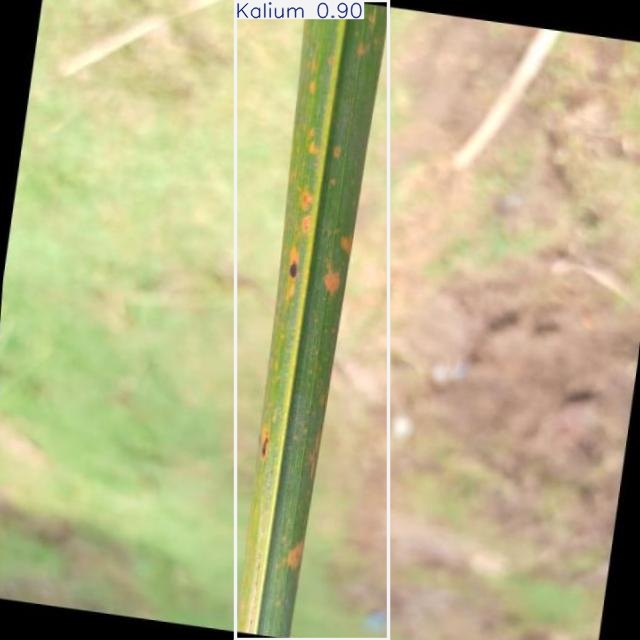Kalium: (235, 1, 388, 640)
